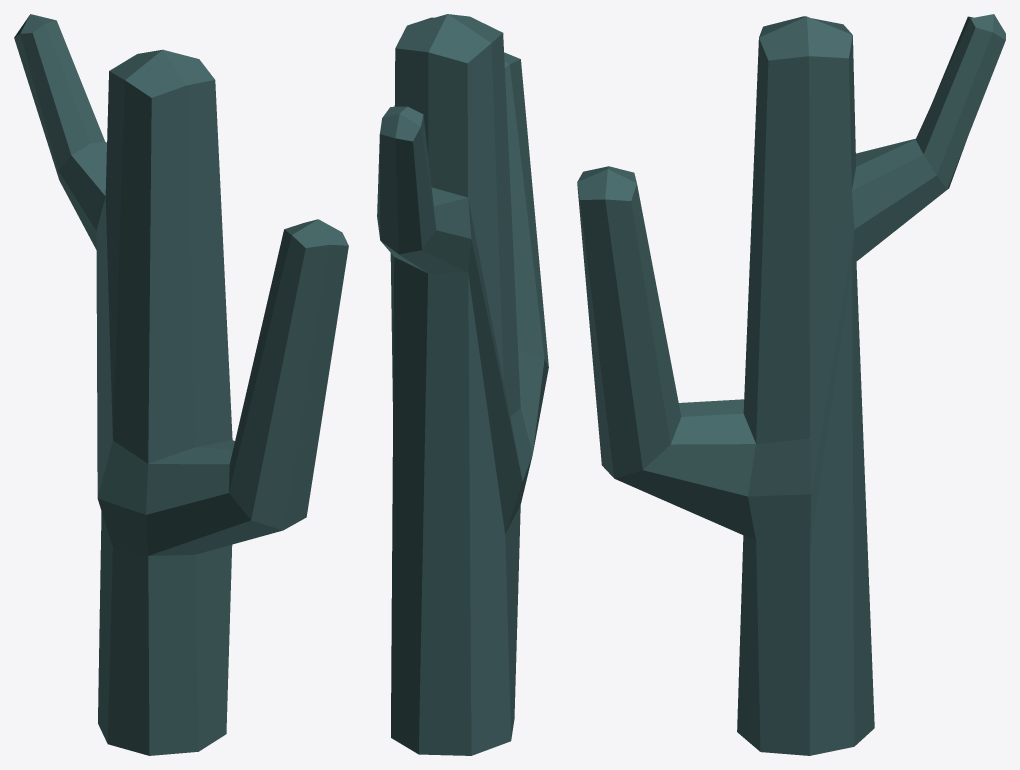
File: cactus_s.glb
3 renders of one model, left to right at view 1: azimuth 30°, elevation 25°; view 2: azimuth 150°, elevation 25°; view 3: azimuth 270°, elevation 25°, orthographic. The views are drawn at different scales.
Parts seen in each view (by area): view 1: Cacuts Small; view 2: Cacuts Small; view 3: Cacuts Small.
Part boxes in pixels (x1,y1,x2,y2): Cacuts Small: [14, 14, 348, 755]; Cacuts Small: [377, 14, 548, 755]; Cacuts Small: [577, 14, 1005, 755].
Size of the model in its own units: 0.8746 by 3.73 by 2.03.
